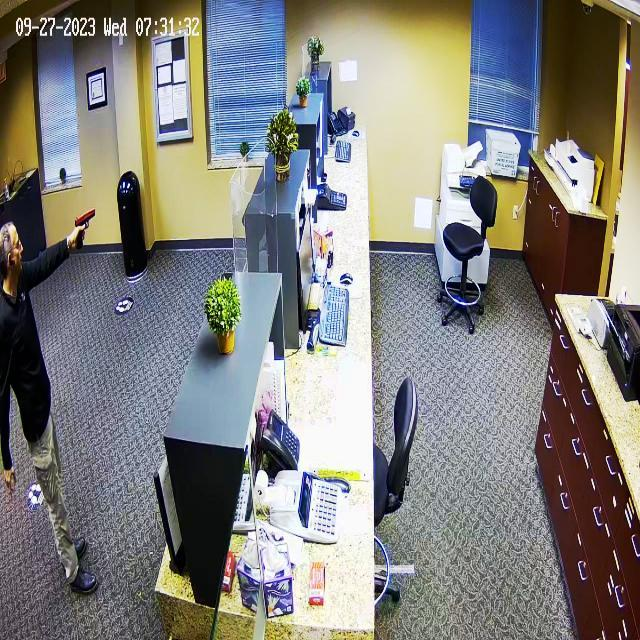Gun: (68, 202, 109, 250)
